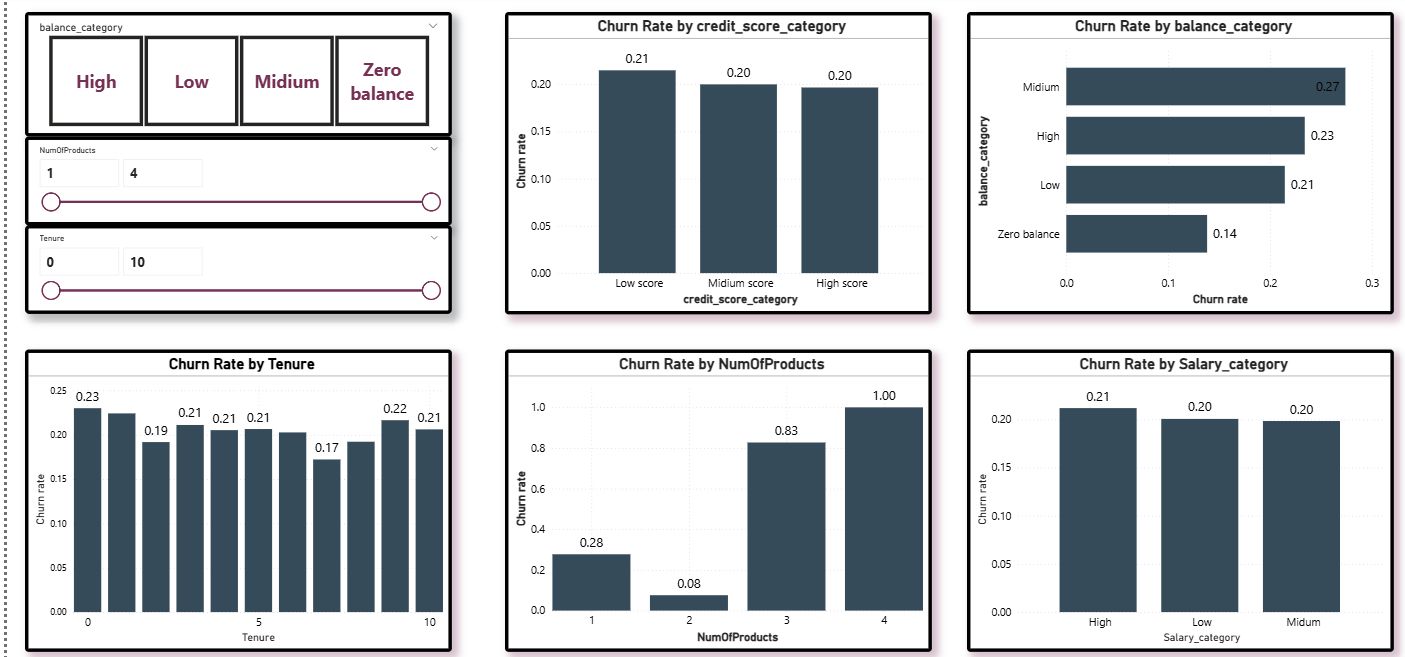

The page's visual inventory and layout, read from the dashboard file:
{"tool":"powerbi","page":{"name":"churn overview 2","canvas":[1891,900],"ordinal":1},"visuals":[{"type":"clusteredColumnChart","title":"Churn Rate by credit_score_category","fields":{"Category":["Churn_Modelling cleaning.credit_score_category"],"Y":["Churn_Modelling cleaning.Churn rate"]},"box":[672,24,576,408],"z":0},{"type":"clusteredBarChart","title":"Churn Rate by balance_category","fields":{"Category":["Churn_Modelling cleaning.balance_category"],"Y":["Churn_Modelling cleaning.Churn rate"]},"box":[1296,24,576,408],"z":1000},{"type":"clusteredColumnChart","title":"Churn Rate by NumOfProducts","fields":{"Category":["Churn_Modelling cleaning.NumOfProducts"],"Y":["Churn_Modelling cleaning.Churn rate"]},"box":[672,480,576,408],"z":2000},{"type":"clusteredColumnChart","title":"Churn Rate by Salary_category","fields":{"Y":["Churn_Modelling cleaning.Churn rate"],"Category":["Churn_Modelling cleaning.Salary_category"]},"box":[1296,480,576,408],"z":3000},{"type":"slicer","fields":{"Values":["Churn_Modelling cleaning.balance_category"]},"box":[24,24,576,168],"z":6000},{"type":"slicer","fields":{"Values":["Churn_Modelling cleaning.NumOfProducts"]},"box":[24,192,576,120],"z":7000},{"type":"columnChart","title":"Churn Rate by Tenure","fields":{"Category":["Churn_Modelling cleaning.Tenure"],"Y":["Churn_Modelling cleaning.Churn rate"]},"box":[24,480,576,408],"z":8000},{"type":"slicer","fields":{"Values":["Churn_Modelling cleaning.Tenure"]},"box":[24,312,576,120],"z":9000}]}

Visuals, with their boxes in screenshot pixels (x1, y1, x2, y2), scaled from the page's 1891x900 canvas onto the 1405x657 screenshot:
"Churn Rate by credit_score_category" clusteredColumnChart: {"left": 499, "top": 18, "right": 927, "bottom": 315}
"Churn Rate by balance_category" clusteredBarChart: {"left": 963, "top": 18, "right": 1391, "bottom": 315}
"Churn Rate by NumOfProducts" clusteredColumnChart: {"left": 499, "top": 350, "right": 927, "bottom": 648}
"Churn Rate by Salary_category" clusteredColumnChart: {"left": 963, "top": 350, "right": 1391, "bottom": 648}
slicer - Churn_Modelling cleaning.balance_category: {"left": 18, "top": 18, "right": 446, "bottom": 140}
slicer - Churn_Modelling cleaning.NumOfProducts: {"left": 18, "top": 140, "right": 446, "bottom": 228}
"Churn Rate by Tenure" columnChart: {"left": 18, "top": 350, "right": 446, "bottom": 648}
slicer - Churn_Modelling cleaning.Tenure: {"left": 18, "top": 228, "right": 446, "bottom": 315}
